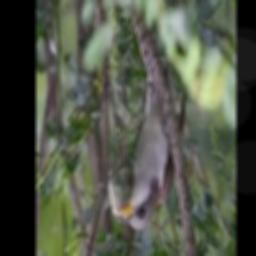Cuckoo: (118, 82, 186, 230)
